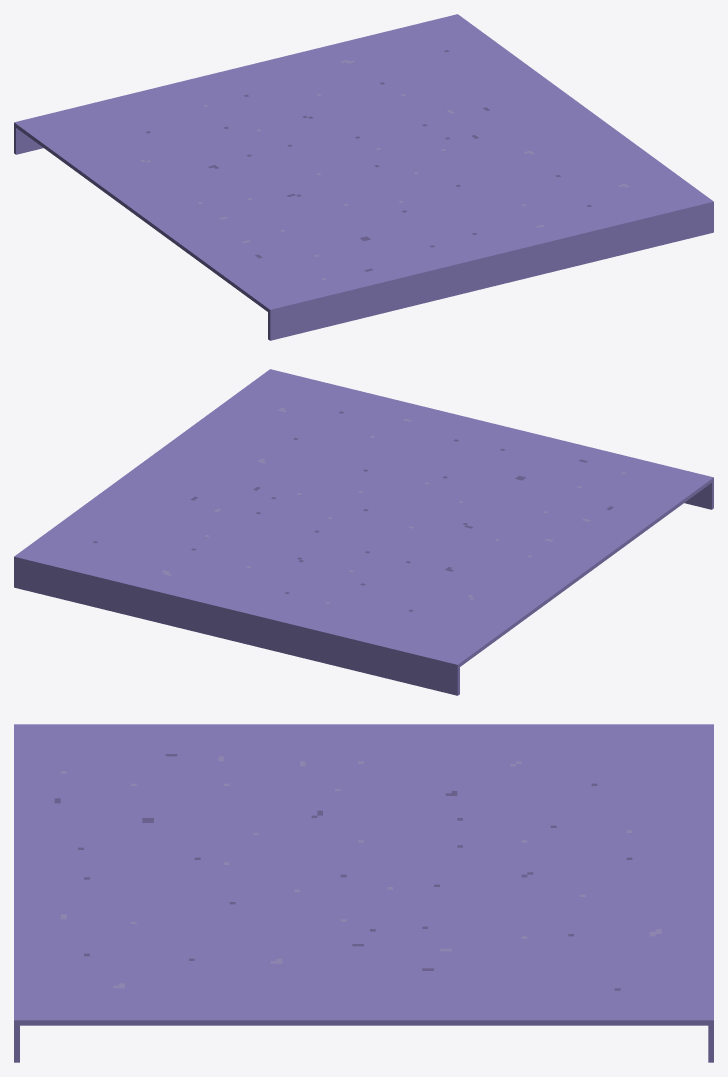
The model's file is map3.obj.
3 views of the same model, one above another, from view 1: azimuth 30°, elevation 25°; view 2: azimuth 150°, elevation 25°; view 3: azimuth 270°, elevation 25° (orthographic). The views are drawn at different scales.
Visible parts, largest first — view 1: map3; view 2: map3; view 3: map3.
Part boxes in pixels (x1,y1,x2,y2): map3: (14,14,713,340); map3: (14,369,713,695); map3: (14,724,713,1062).
Bounding box in the file's own units: 120 × 8 × 120.
1 material, 1 textured.
